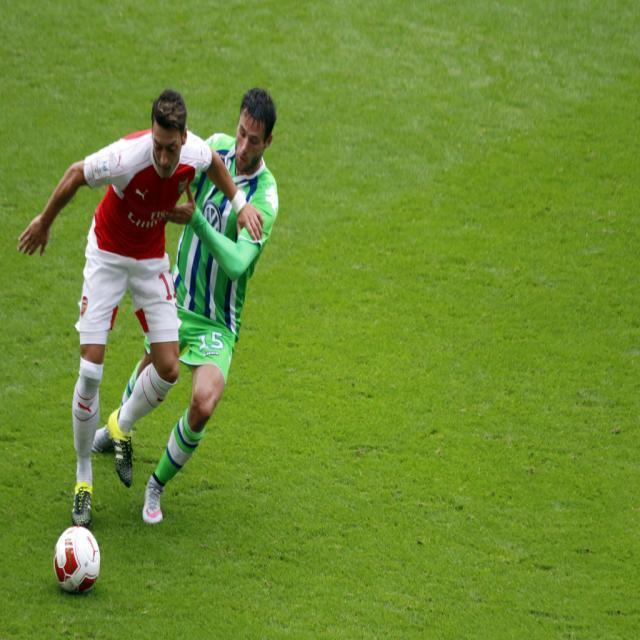football: (37, 523, 156, 600)
